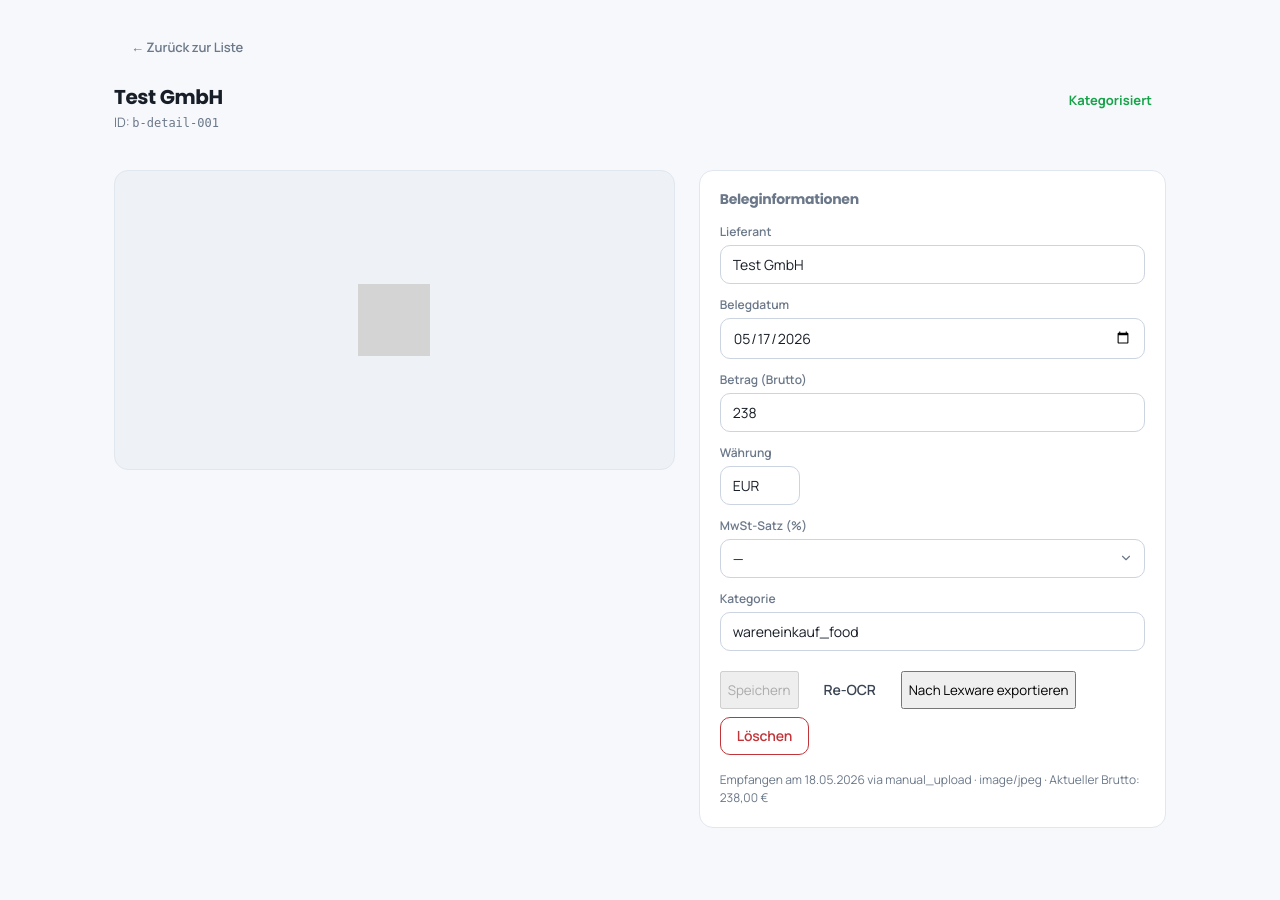
Test case: BelegeDetailPage › T076: Export-Fehler (422 not_categorized) zeigt verständlichen Toast (Legacy-Error-Shape)
Click the button with test id "btn-export" at (989, 690), box [901,671,1076,709]
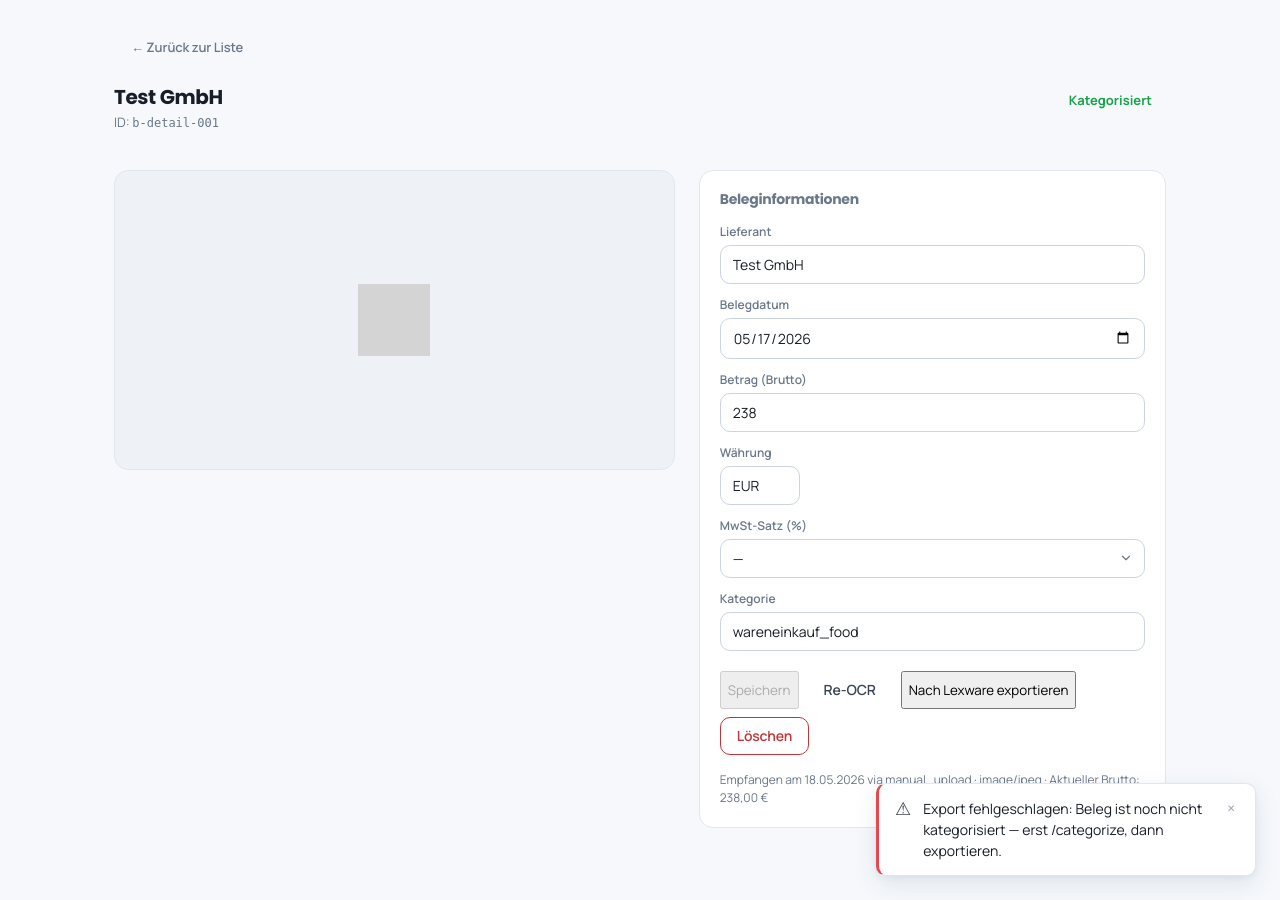
Expected: the text "noch nicht kategorisiert" is shown, [923,799,1202,860]
